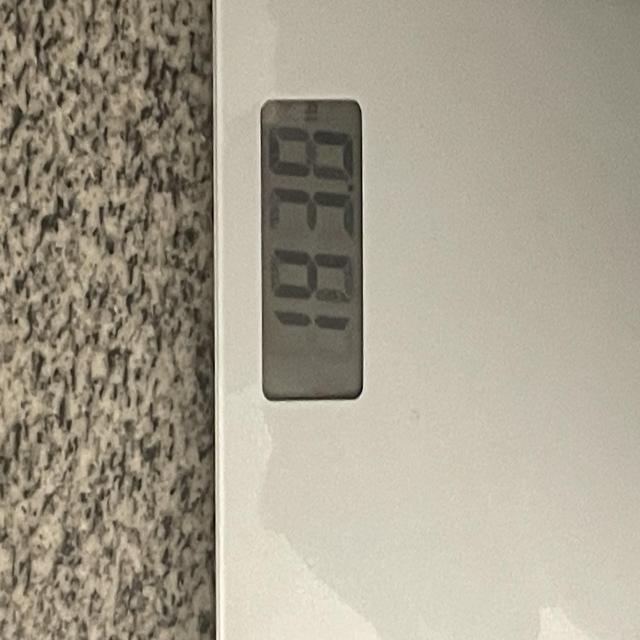ws: (213, 0, 640, 640)
